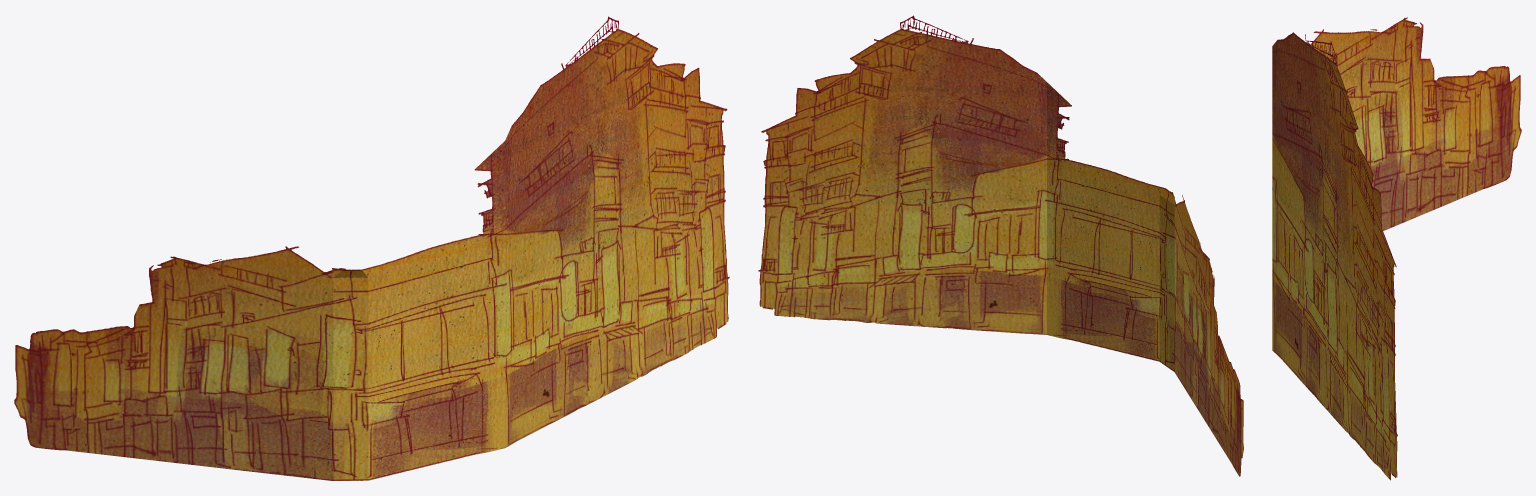
The model's file is DefaultHouse.fbx.
3 renders of one model, left to right at view 1: azimuth 30°, elevation 25°; view 2: azimuth 150°, elevation 25°; view 3: azimuth 270°, elevation 25°, orthographic. The views are drawn at different scales.
Visible parts, largest first — view 1: house_front_1_mask1; view 2: house_front_1_mask1; view 3: house_front_1_mask1.
Boxes of the visible parts, x1,y1,x2,y2 form: house_front_1_mask1: (14, 16, 729, 480); house_front_1_mask1: (758, 15, 1243, 476); house_front_1_mask1: (1272, 17, 1521, 480).
Bounding box in the file's own units: 1646 × 914 × 549.
Materials: 1 (1 with a texture image).
